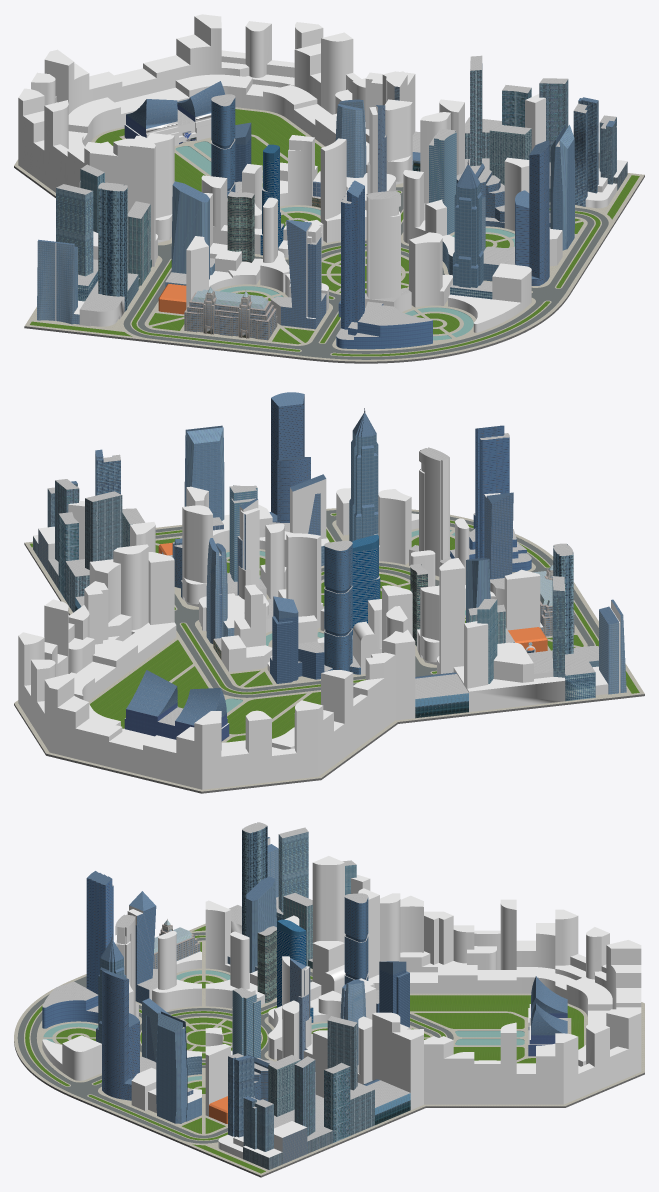
File: city.glb
3 renders of one model, top to bottom at view 1: azimuth 30°, elevation 25°; view 2: azimuth 150°, elevation 25°; view 3: azimuth 270°, elevation 25°, orthographic. The views are drawn at different scales.
Parts seen in each view (by area): view 1: Camellia City; view 2: Camellia City; view 3: Camellia City.
Part boxes in pixels (left/top/right/bottom): Camellia City: left=14, top=14, right=644, bottom=363; Camellia City: left=14, top=392, right=644, bottom=793; Camellia City: left=14, top=822, right=644, bottom=1177.
Bounding box in the file's own units: 741 × 168 × 716.
78 materials, 74 textured.
